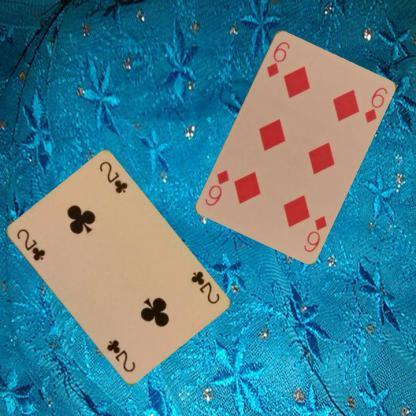2c: (188, 268, 220, 306), (13, 226, 46, 262)
6d: (264, 38, 292, 78), (300, 213, 328, 253)
